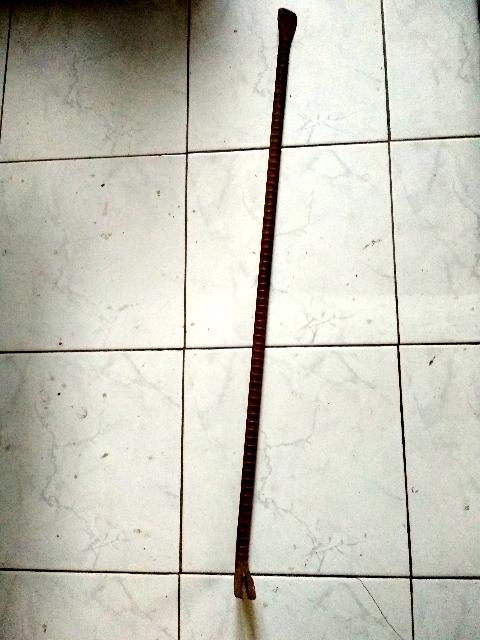crow bar: (228, 6, 300, 605)
